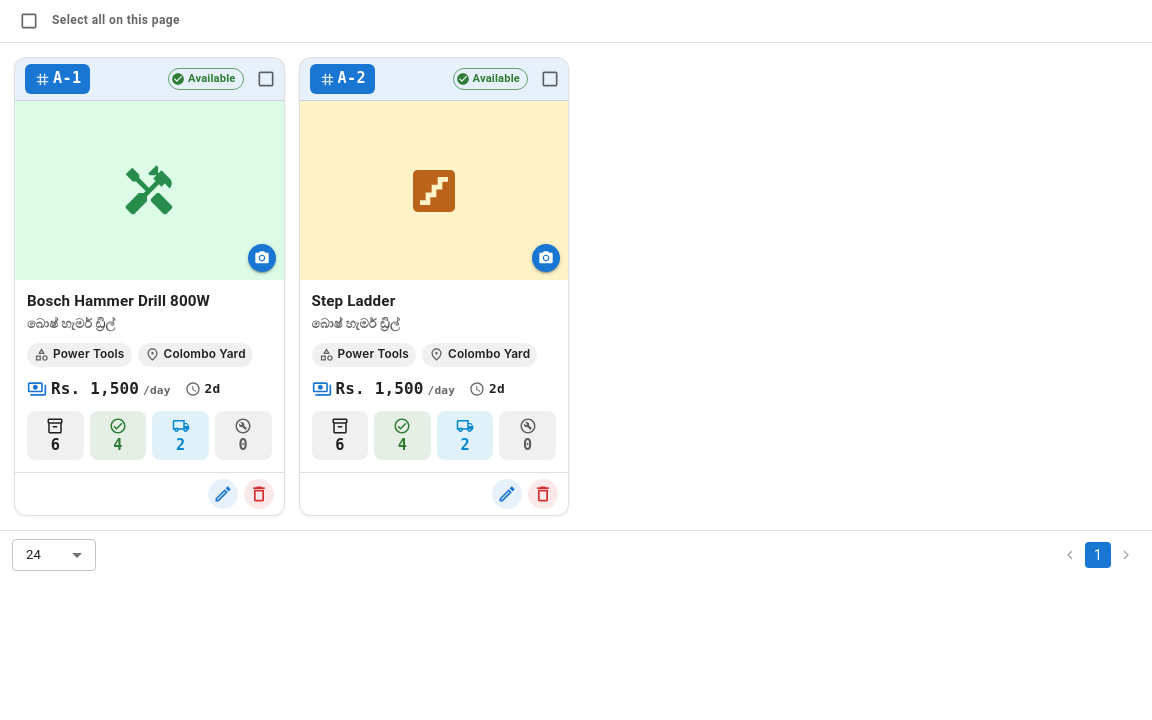
Scenario: EquipmentCardGrid › tapping a card's photo opens the photo dialog for that machine
Click the button named "Change photo: Step Ladder" at coordinates (434, 190), box 300,101 -> 568,280
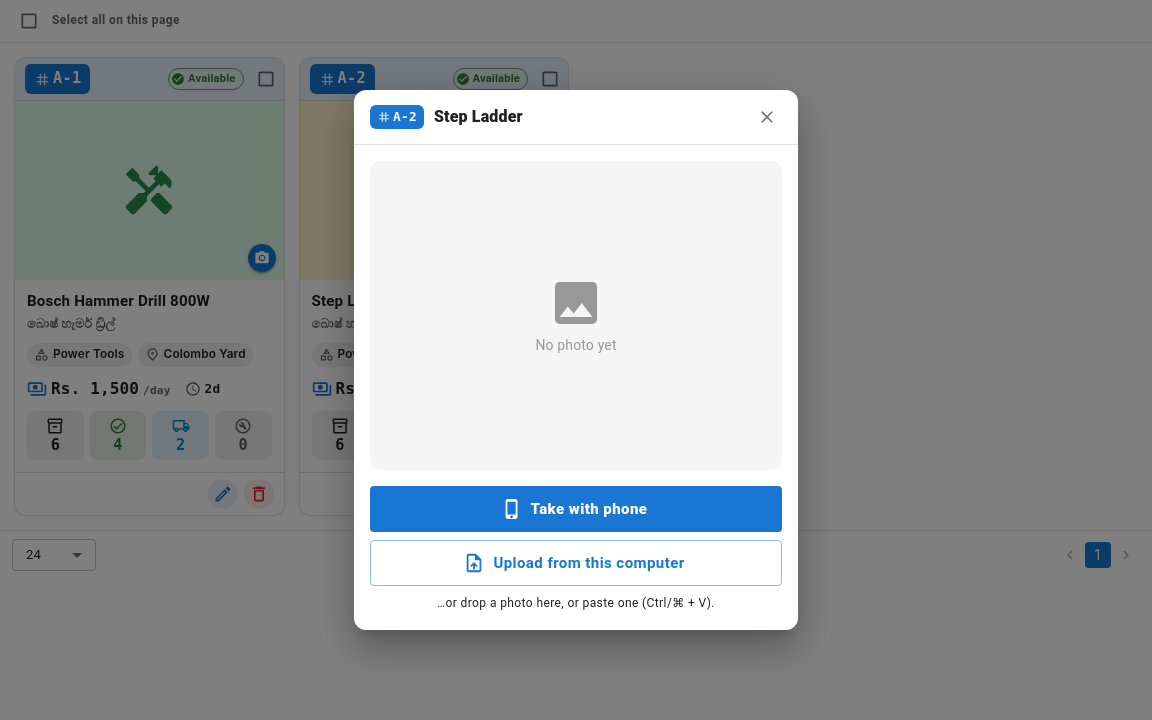
expect the button "Take with phone" is shown: met, box 370,486 -> 782,532
expect the button "Upload from this computer" is shown: met, box 370,540 -> 782,586
